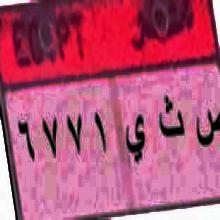1: (93, 106, 109, 160)
6: (16, 110, 35, 171)
7: (40, 107, 60, 164), (66, 109, 84, 162)
saad: (192, 97, 220, 154)
thaa: (158, 93, 186, 144)
yaa: (123, 108, 147, 172)
